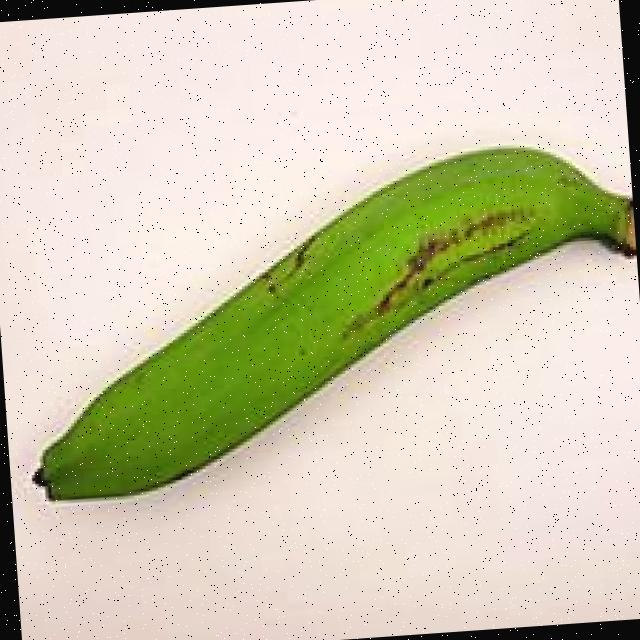Raw: (0, 97, 640, 530)
